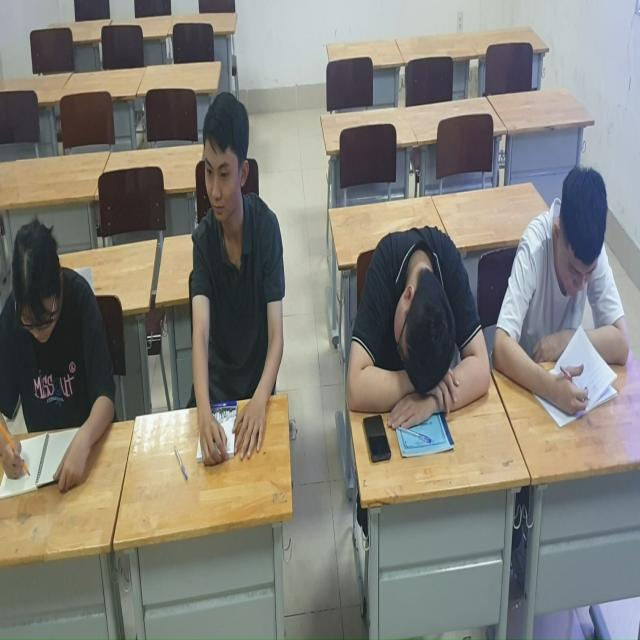read: (172, 86, 298, 459), (497, 155, 633, 422), (1, 215, 123, 499)
sleep: (340, 206, 489, 435)
